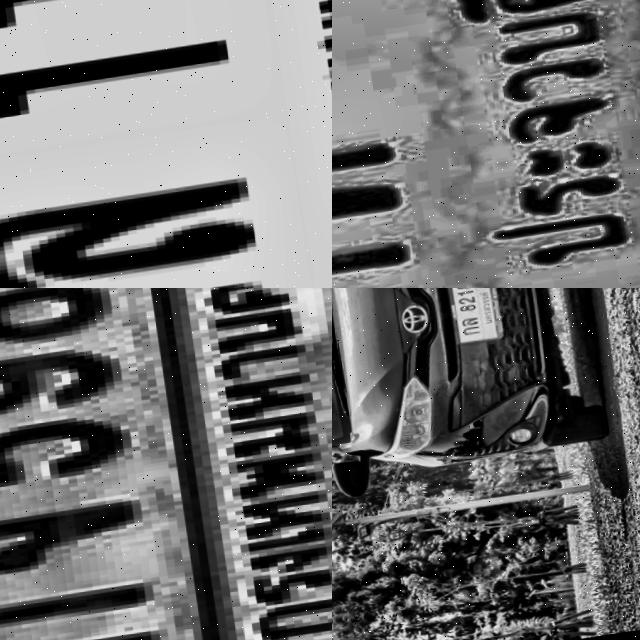license-plate: (0, 288, 332, 640), (0, 0, 332, 288), (332, 0, 640, 288), (433, 288, 507, 352)
